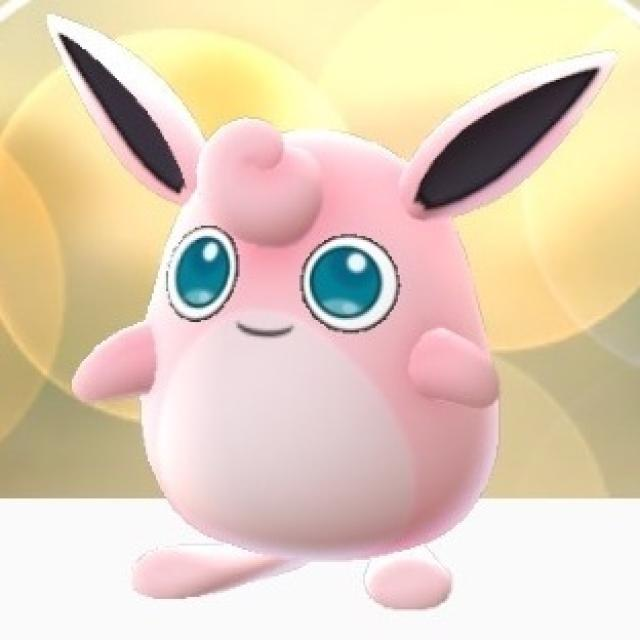Wigglytuff: (96, 87, 510, 600)
